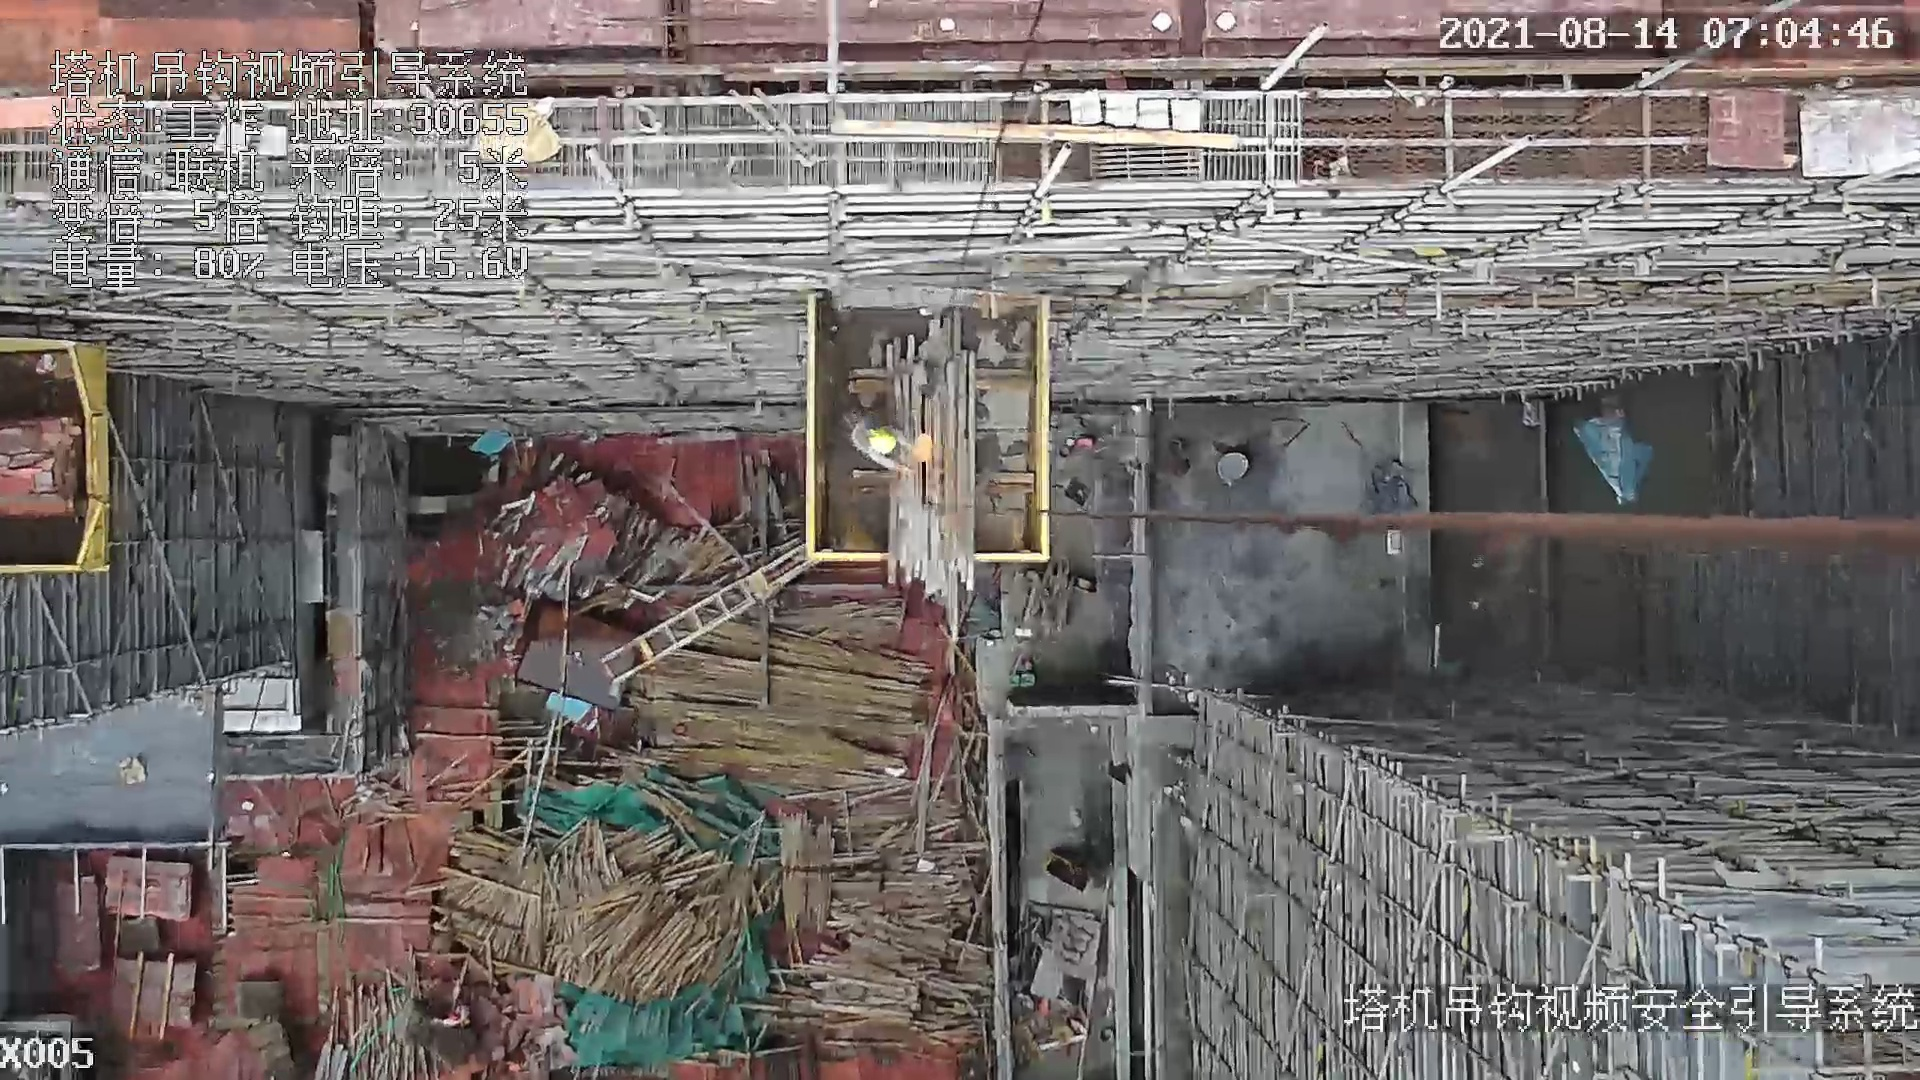helmet: (867, 426, 899, 455)
hook: (913, 401, 938, 510)
person: (849, 418, 915, 477)
